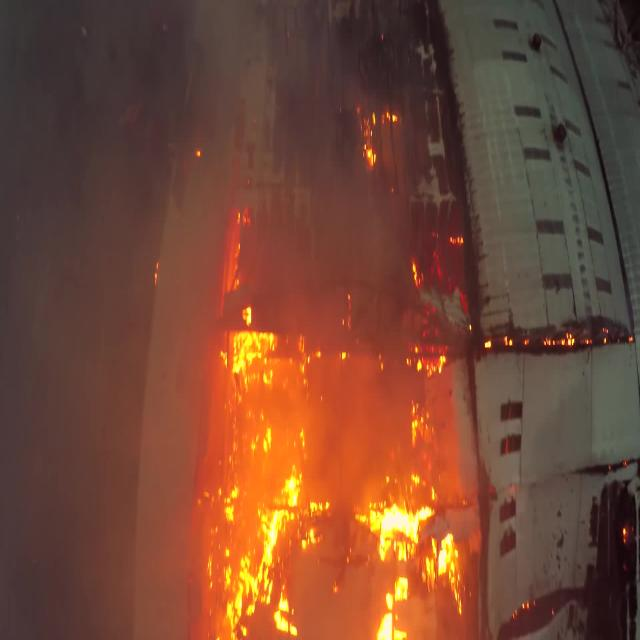Fire: (218, 295, 488, 640)
